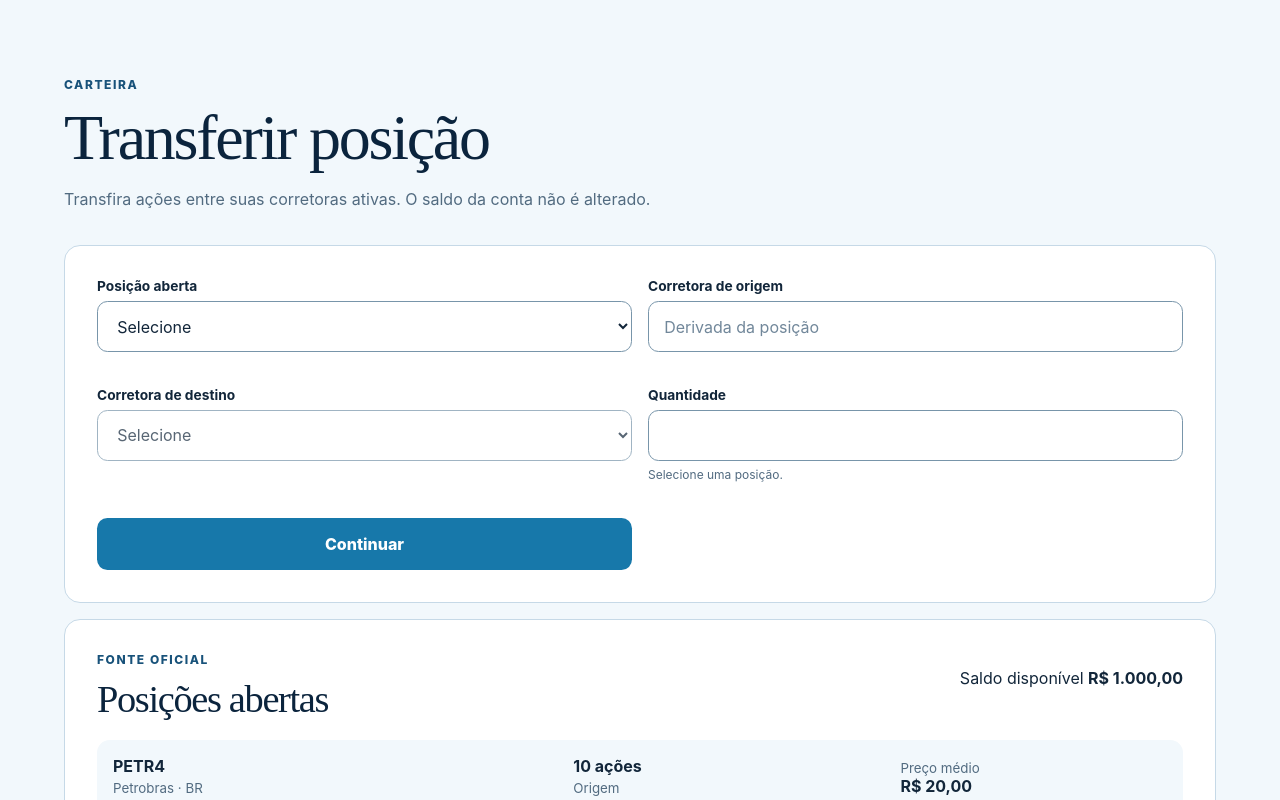
Test case: TransfersPage › preserva o contexto e a mensagem funcional para nova tentativa
Expected: the heading "Transferir posição" is shown, [64,102,489,173]
Select "PETR4 · Origem · 10 ações" in the dropdown labelled "Posição aberta" at x=364, y=326, box [97,301,632,352]
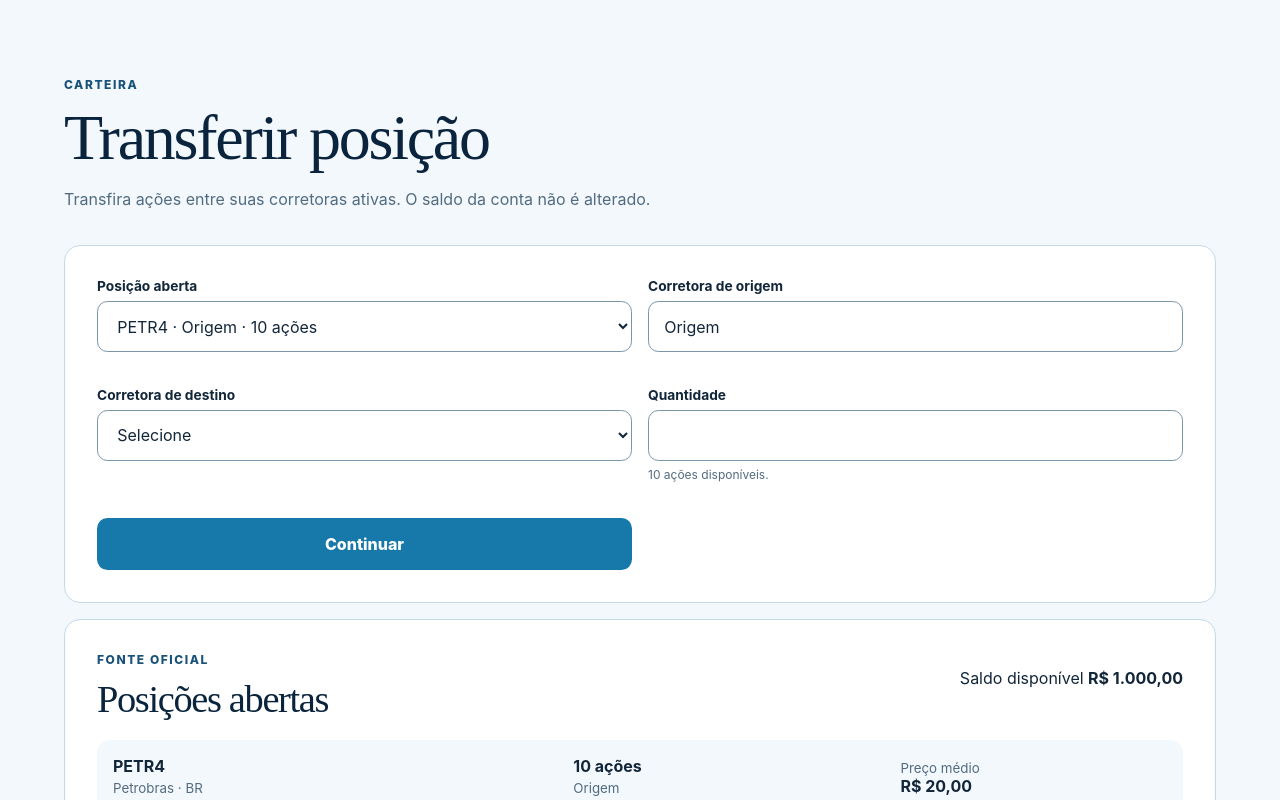
Select "Destino" in the dropdown labelled "Corretora de destino" at x=364, y=435, box [97,410,632,461]
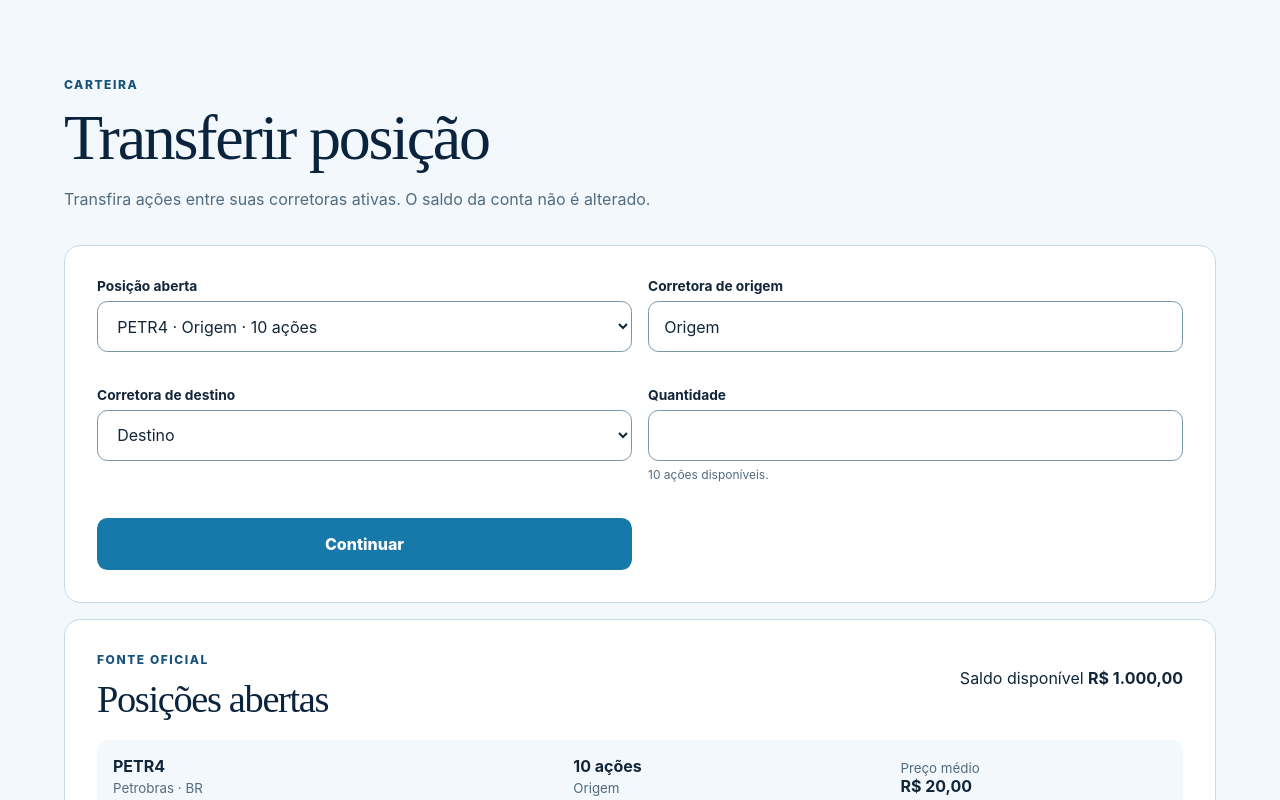
Type "10" into the field labelled "Quantidade" at x=916, y=435, box [648,410,1183,461]
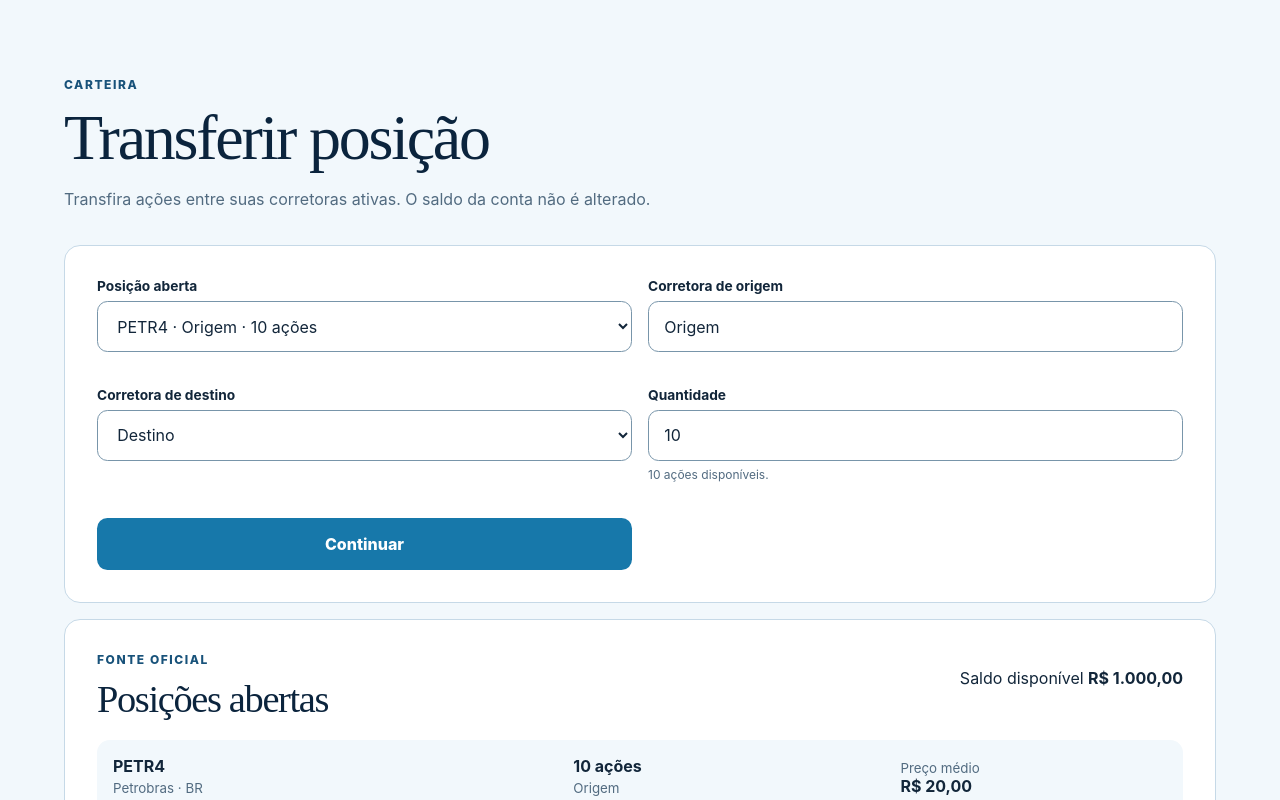
Click the button "Continuar" at x=364, y=544, box [97,518,632,570]
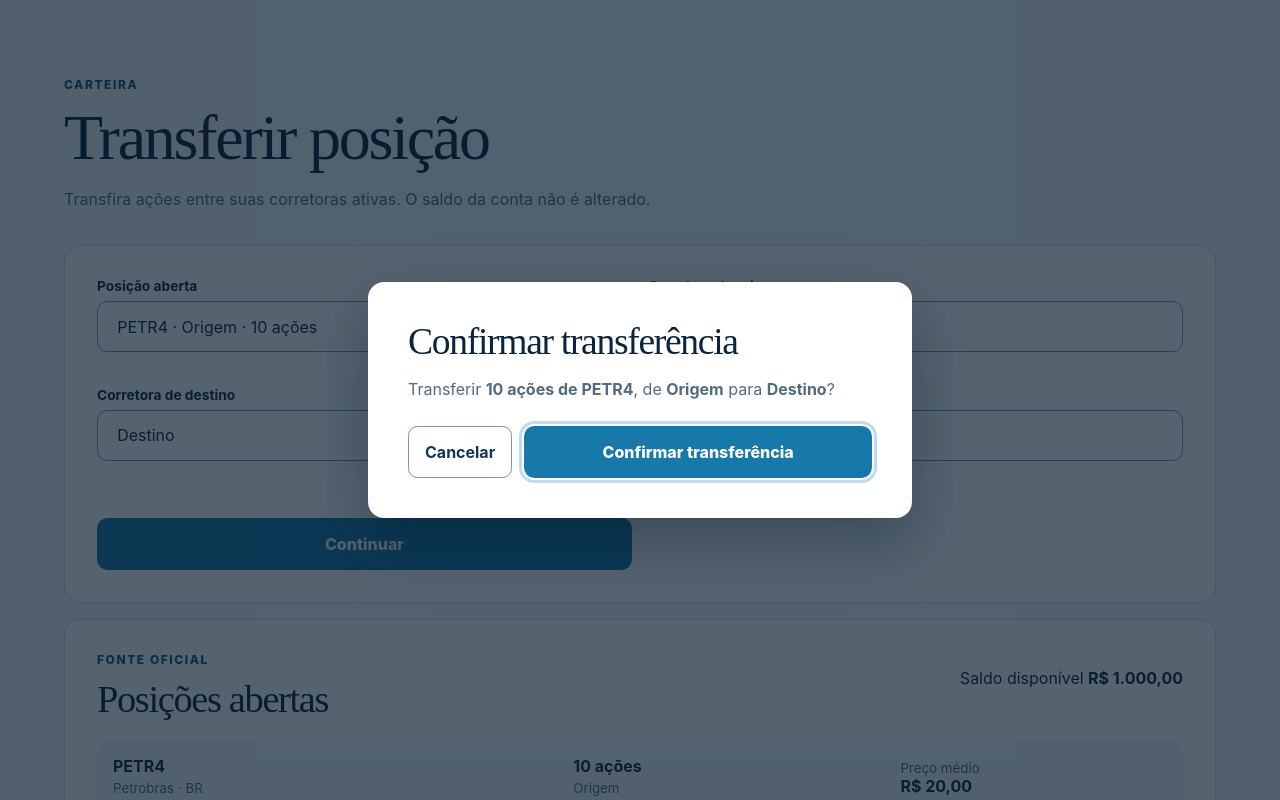
Click the button "Confirmar transferência" at x=698, y=452, box [524,426,872,478]
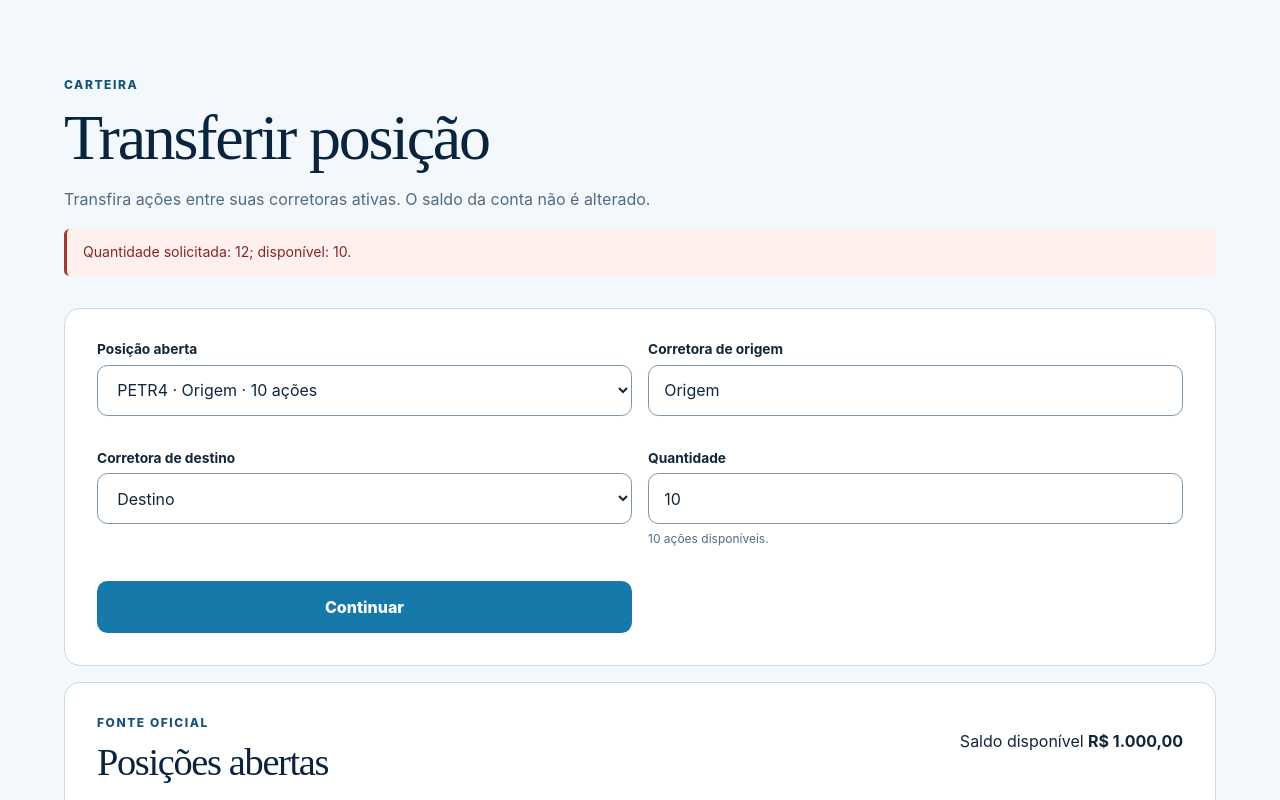
Now the message shows "solicitada: 12; disponível: 10", box [83,243,351,260]
